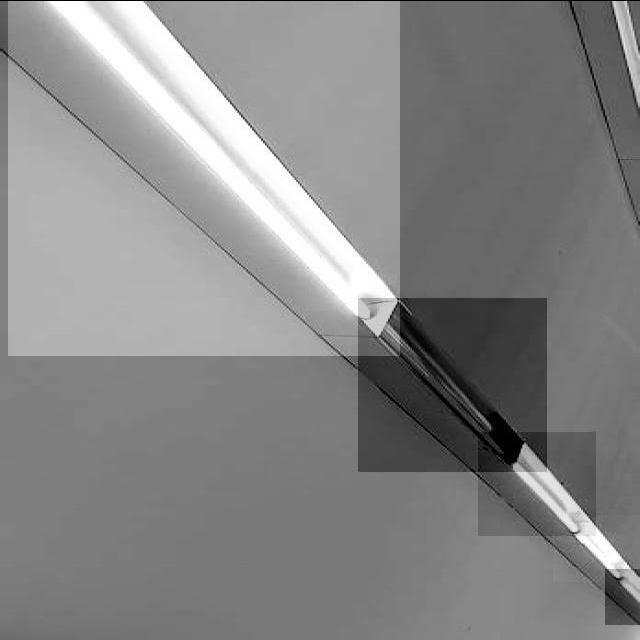light: (6, 0, 640, 623)
